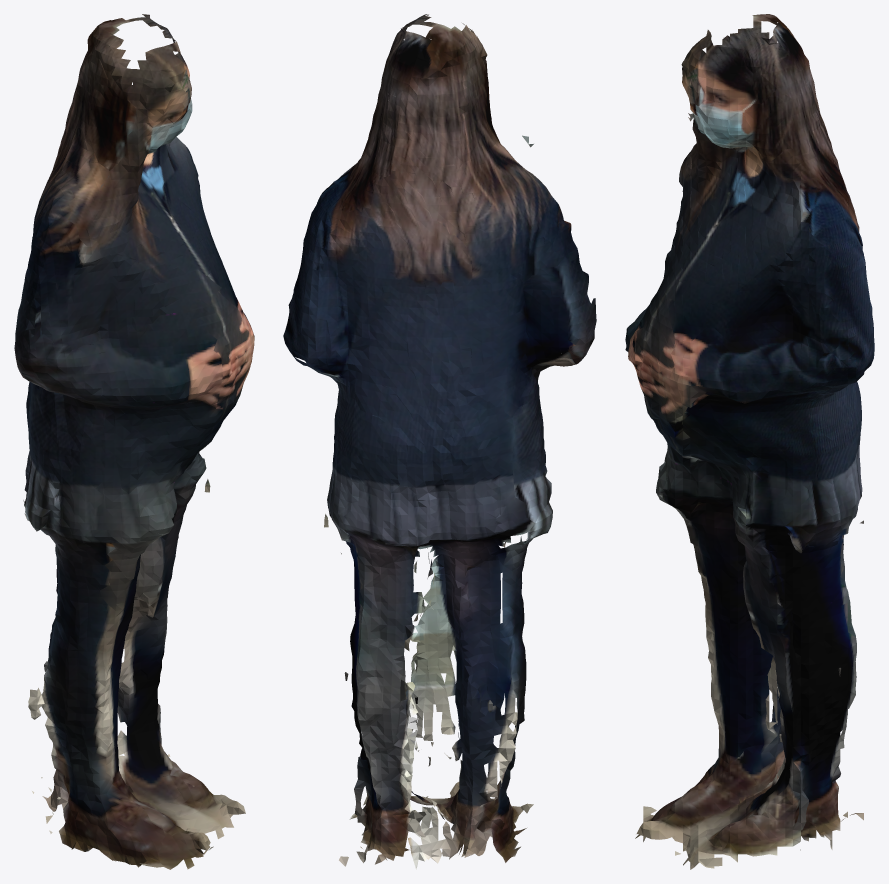
The model's file is paulafix.glb.
3 renders of one model, left to right at view 1: azimuth 30°, elevation 25°; view 2: azimuth 150°, elevation 25°; view 3: azimuth 270°, elevation 25°, orthographic. The views are drawn at different scales.
Parts seen in each view (by area): view 1: Mesh_0; view 2: Mesh_0; view 3: Mesh_0.
Boxes of the visible parts, <box> form: Mesh_0: <box>14,14,254,869</box>; Mesh_0: <box>283,14,596,869</box>; Mesh_0: <box>625,14,874,869</box>.
Bounding box in the file's own units: 0.529 × 1.71 × 0.471.
Materials: 1 (1 with a texture image).
